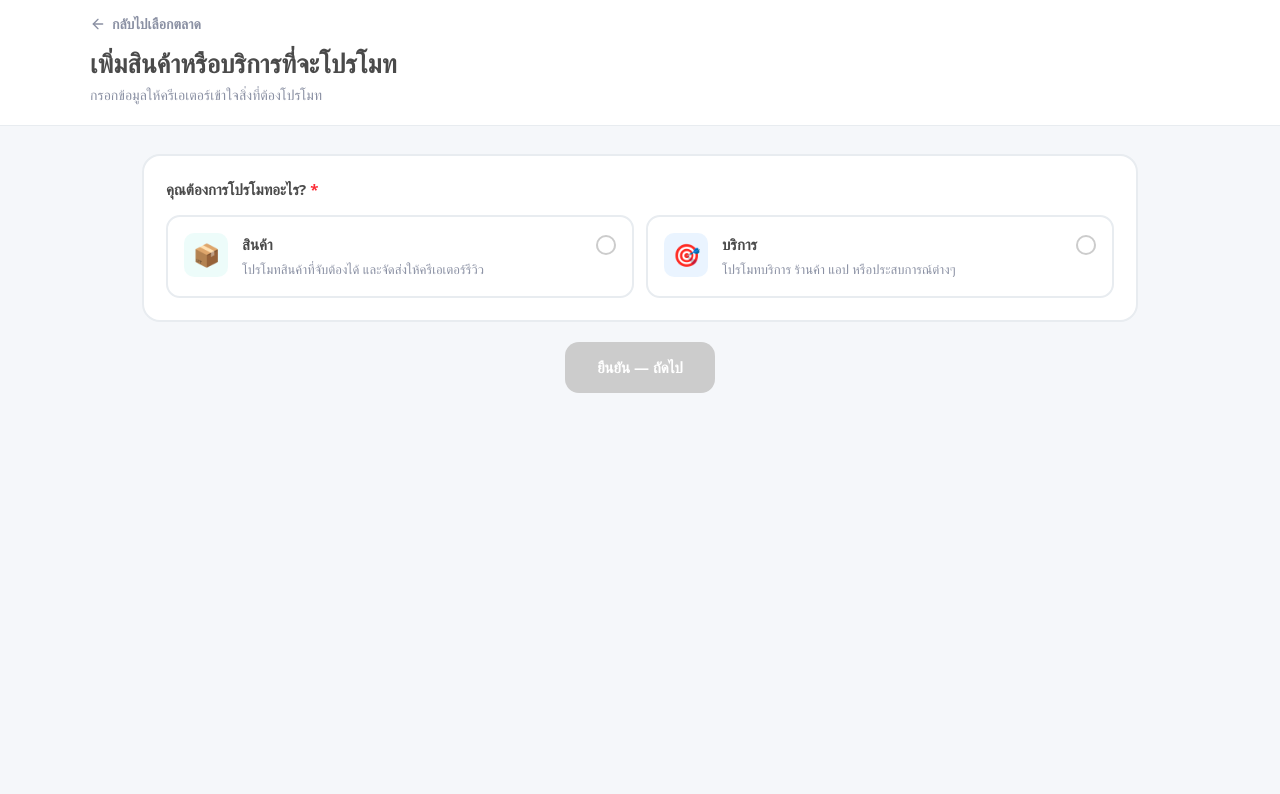
Test case: AddProductPage › CTA is enabled when all required fields filled
Click the button "สินค้า" at (206, 254), box [166, 214, 634, 298]
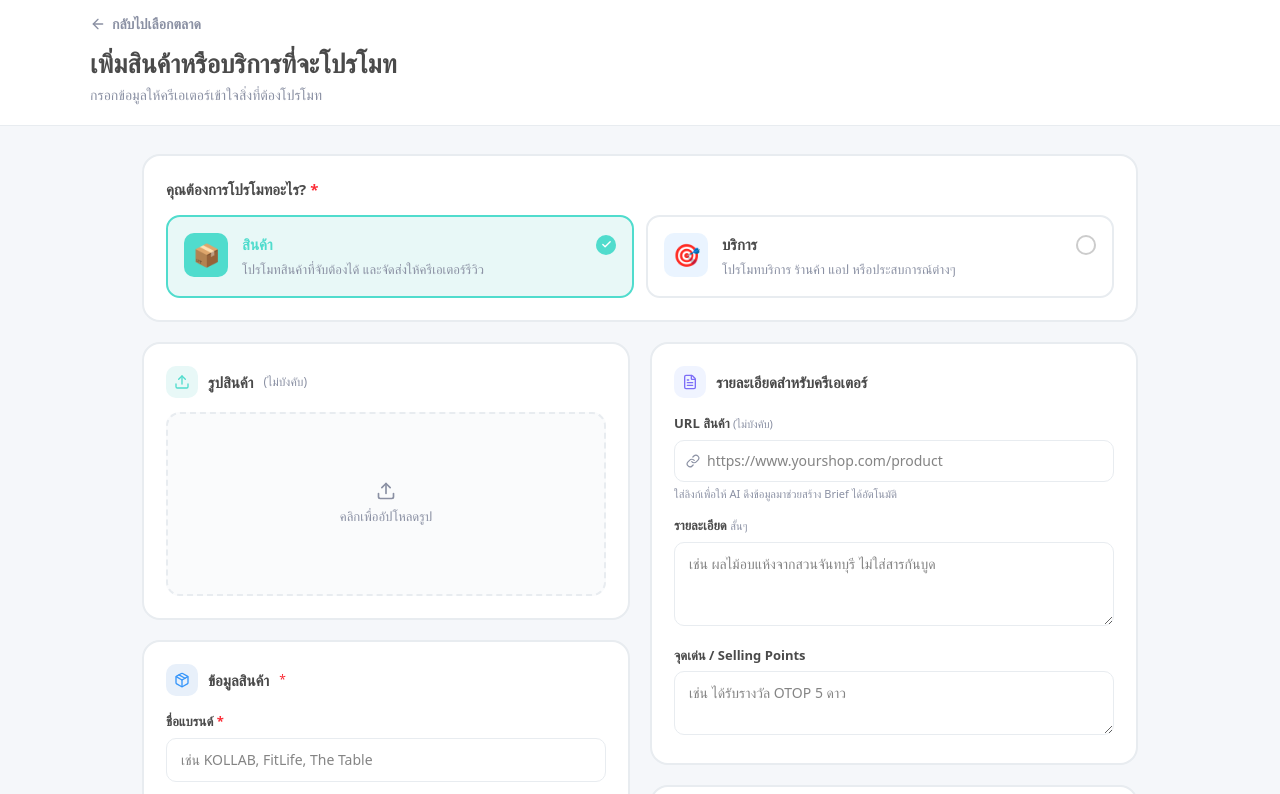
Type "My Brand" into the field with placeholder "เช่น KOLLAB, FitLife, The Table" at (386, 760), box [166, 738, 606, 782]
(page scrolled)
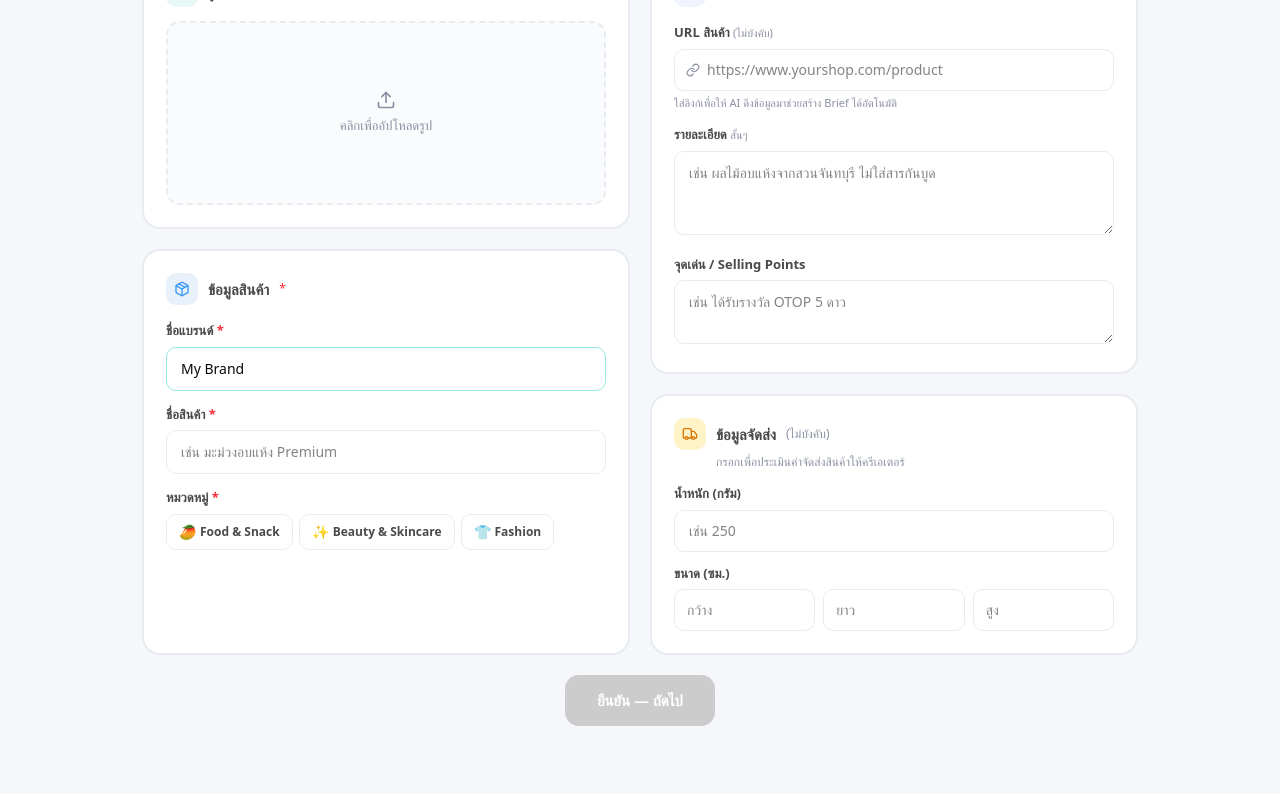
Type "My Product" into the field with placeholder "เช่น มะม่วงอบแห้ง Premium" at (386, 452), box [166, 430, 606, 474]
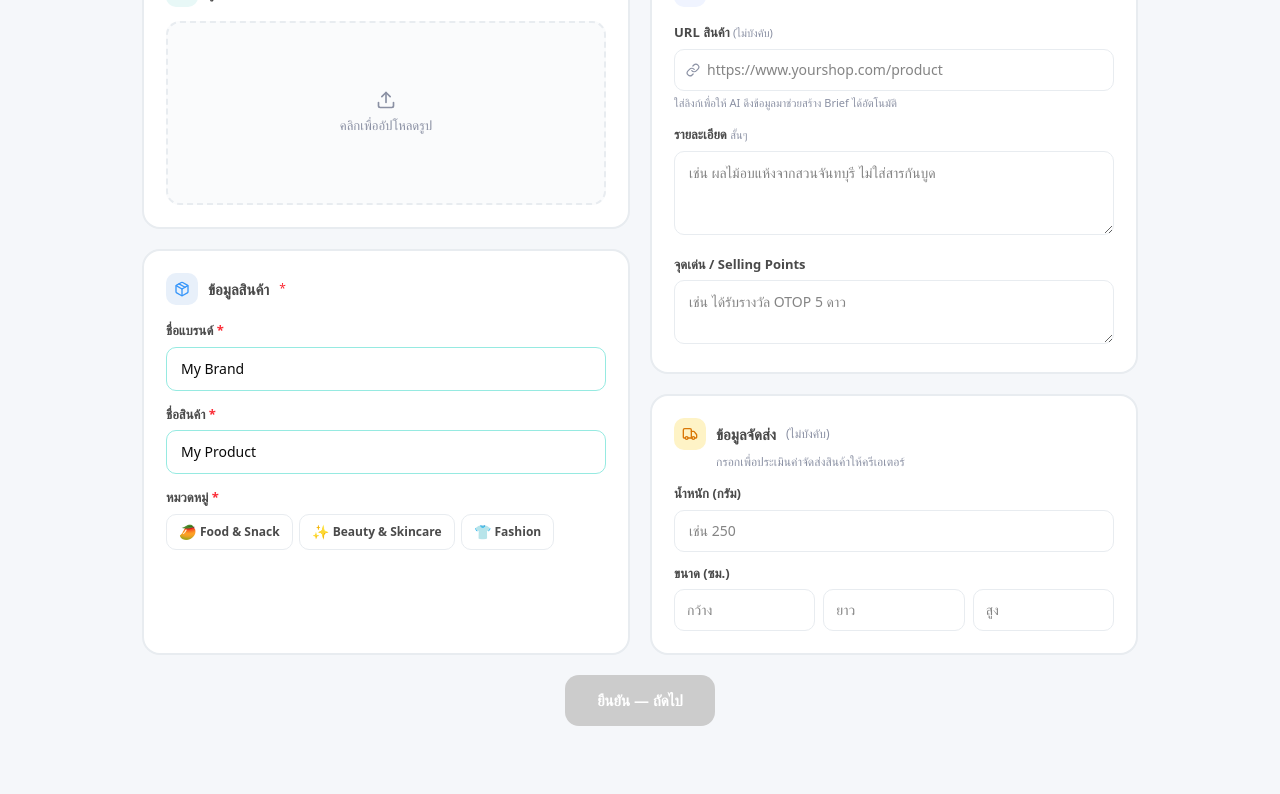
Click the button "🥭 Food & Snack" at (229, 532), box [166, 514, 293, 550]
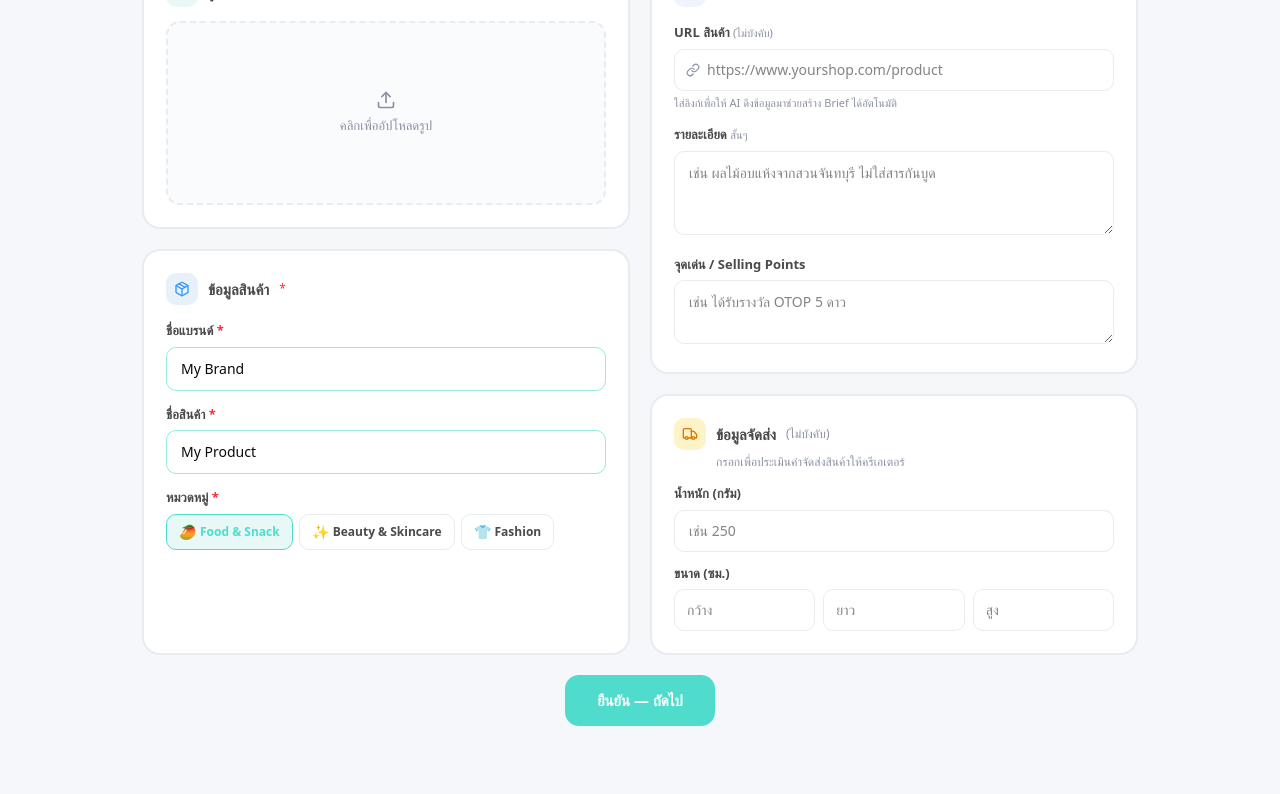
Expected: the button "ยืนยัน — ถัดไป" is enabled, [565, 675, 715, 726]
